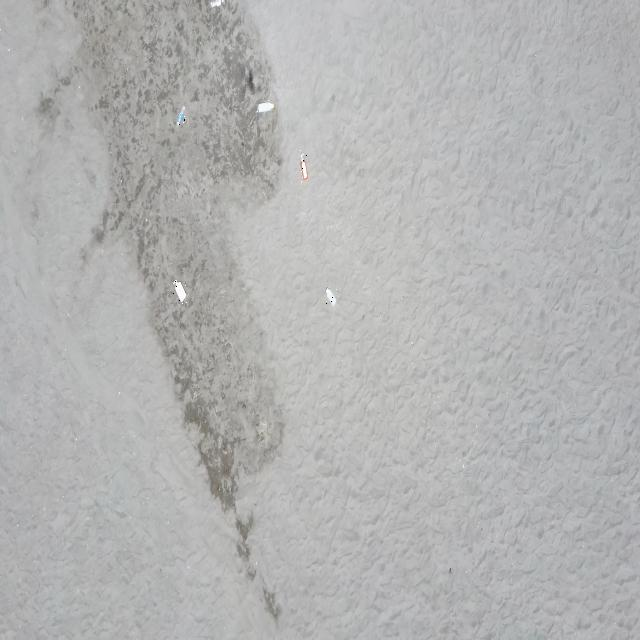Garbage: (172, 280, 186, 301), (324, 288, 335, 304), (256, 101, 273, 111), (300, 154, 306, 180), (176, 105, 184, 124), (208, 0, 223, 7)
